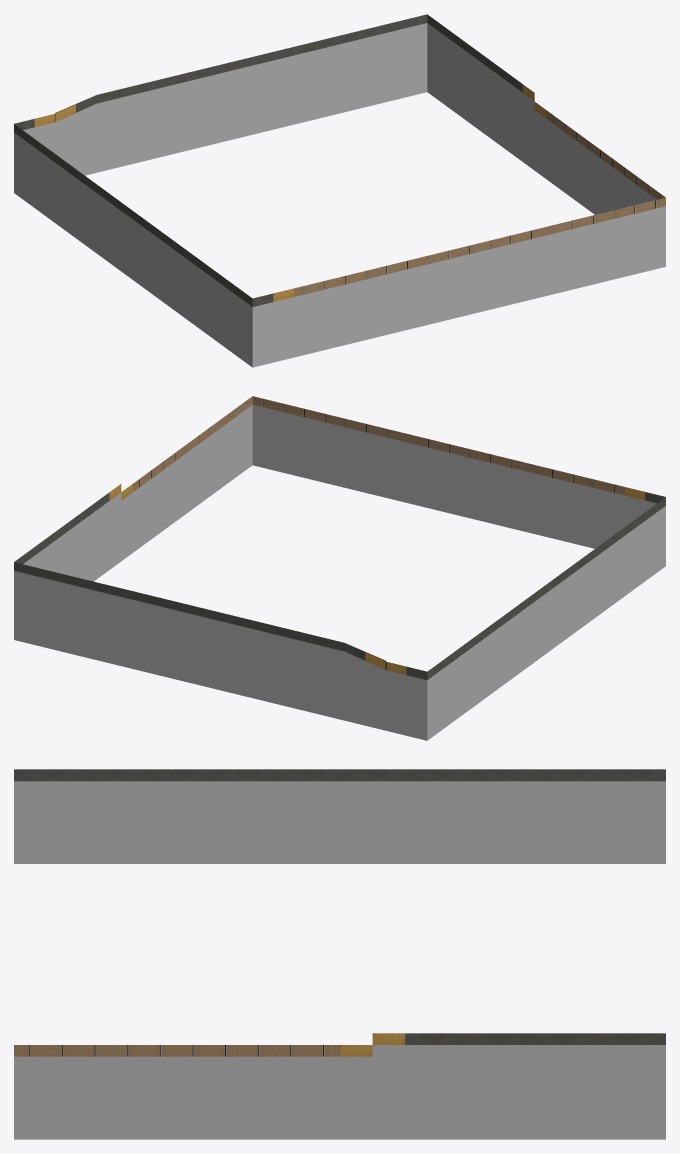
3 renders of one model, top to bottom at view 1: azimuth 30°, elevation 25°; view 2: azimuth 150°, elevation 25°; view 3: azimuth 270°, elevation 25°, orthographic. The views are drawn at different scales.
Parts seen in each view (by area): view 1: Joint_0_Object_3, Joint_0_Object_0, Joint_0_Object_2, Joint_0_Object_1; view 2: Joint_0_Object_3, Joint_0_Object_0, Joint_0_Object_2, Joint_0_Object_1; view 3: Joint_0_Object_3, Joint_0_Object_0, Joint_0_Object_2, Joint_0_Object_1.
Part boxes in pixels (x1,y1,x2,y2): Joint_0_Object_3: [14, 23, 665, 367]; Joint_0_Object_0: [14, 14, 522, 306]; Joint_0_Object_2: [294, 110, 665, 296]; Joint_0_Object_1: [34, 84, 546, 301]; Joint_0_Object_3: [14, 405, 665, 740]; Joint_0_Object_0: [14, 492, 665, 680]; Joint_0_Object_2: [133, 396, 624, 495]; Joint_0_Object_1: [109, 484, 645, 674]; Joint_0_Object_3: [14, 781, 665, 1139]; Joint_0_Object_0: [14, 769, 665, 1044]; Joint_0_Object_2: [14, 1045, 339, 1056]; Joint_0_Object_1: [340, 1033, 405, 1056].
Bounding box in the file's own units: 10000 × 1800 × 10000.
